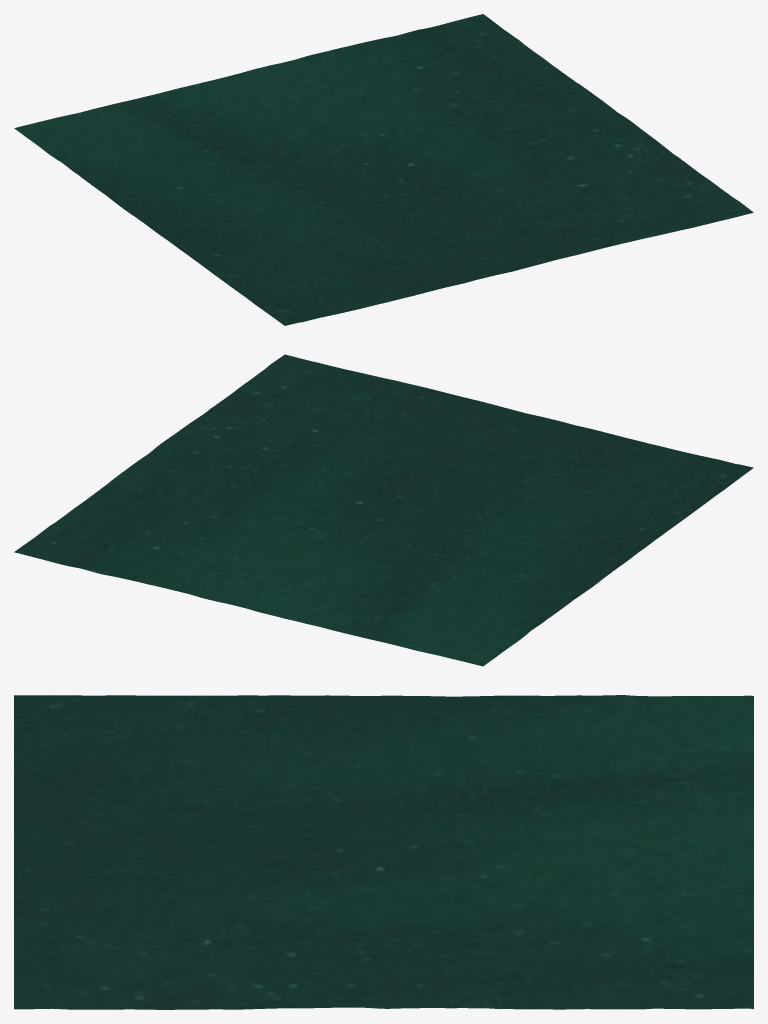
3 renders of one model, top to bottom at view 1: azimuth 30°, elevation 25°; view 2: azimuth 150°, elevation 25°; view 3: azimuth 270°, elevation 25°, orthographic. The views are drawn at different scales.
Bounding box in the file's own units: 104 × 0.61 × 104.
2 materials, 2 textured.
